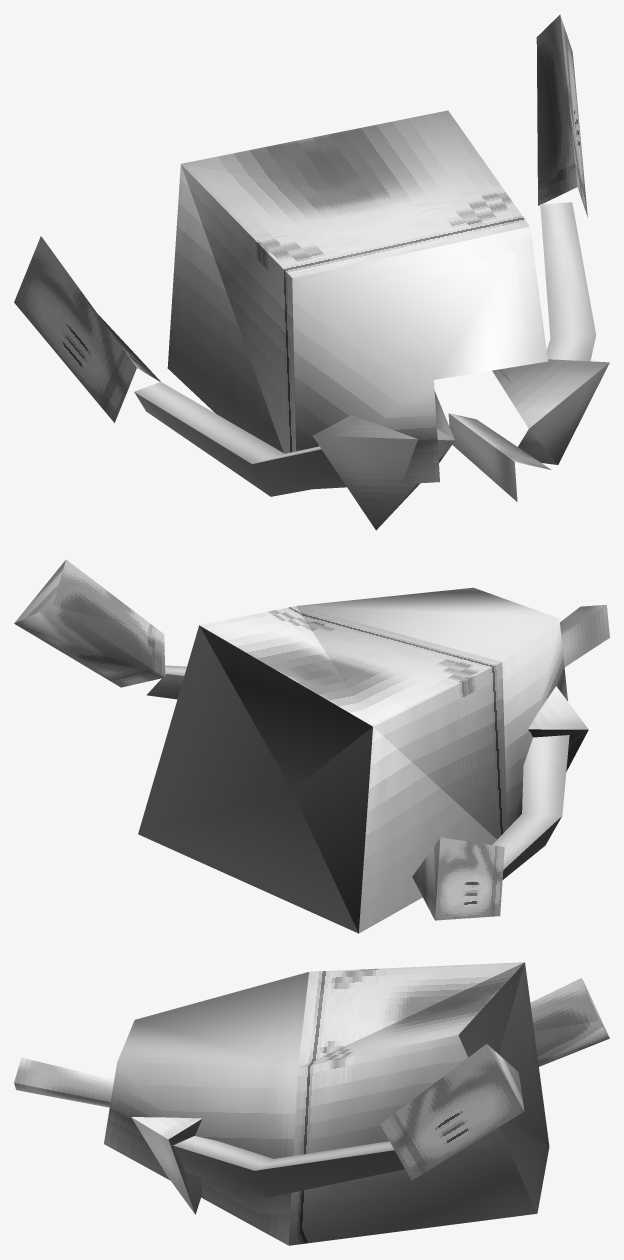
Rendered from torso_ms_250.glb.
3 views of the same model, one above another, from view 1: azimuth 30°, elevation 25°; view 2: azimuth 150°, elevation 25°; view 3: azimuth 270°, elevation 25° (orthographic). The views are drawn at different scales.
Parts seen in each view (by area): view 1: torso-bot, torso-top, hands (×2), arms, sleeves, neck; view 2: torso-bot, hands (×2), torso-top, arms, neck, sleeves; view 3: torso-bot, torso-top, hands (×2), arms, neck, sleeves.
Part boxes in pixels (x1,y1,x2,y2): torso-bot: (167,110,529,453); torso-top: (292,226,547,489); hands (×2): (14,14,587,422); arms: (134,202,596,496); sleeves: (313,359,609,530); neck: (448,413,551,501); torso-bot: (138,606,507,933); hands (×2): (14,559,504,920); torso-top: (297,587,567,828); arms: (147,665,569,879); neck: (560,605,609,666); sleeves: (528,686,588,771); torso-bot: (289,962,549,1245); torso-top: (104,972,308,1245); hands (×2): (380,978,609,1180); arms: (173,1136,404,1197); neck: (14,1057,114,1107); sleeves: (131,1117,202,1214).
Bounding box in the file's own units: 2.57 × 1.47 × 3.05.
6 materials, 6 textured.
